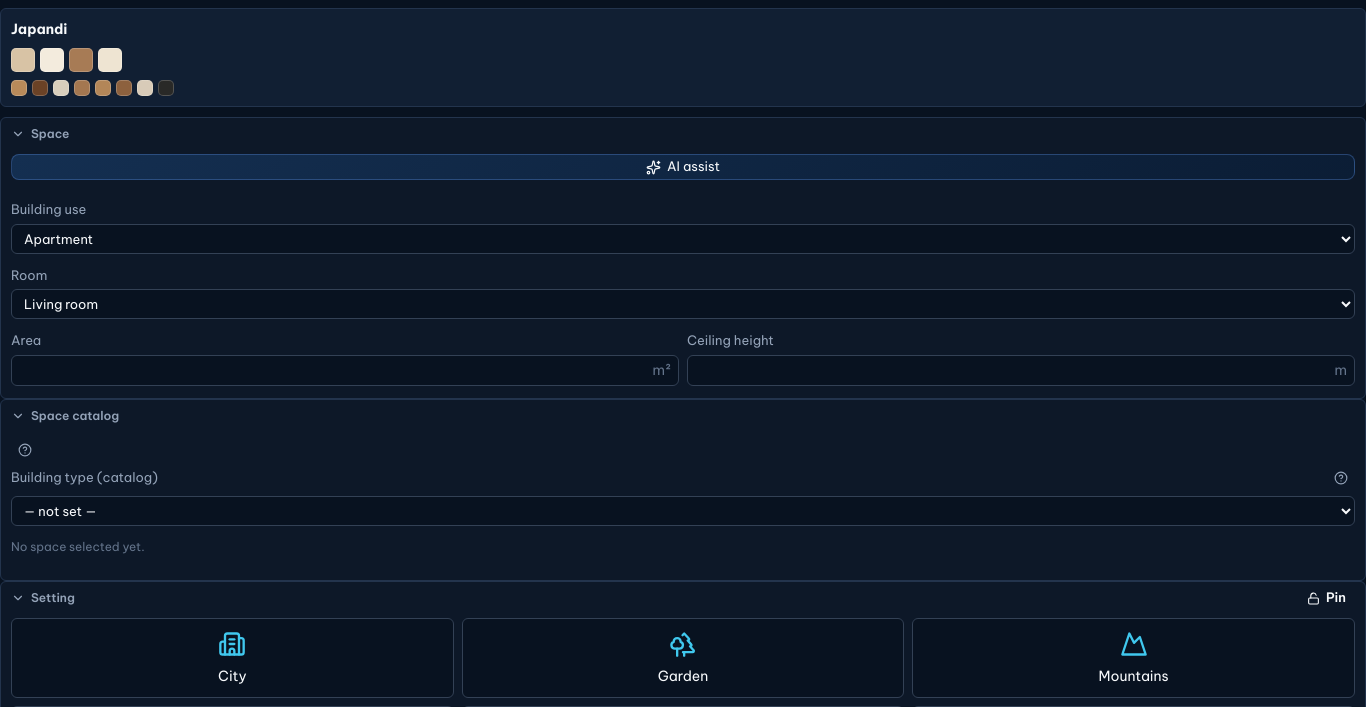
interior project UI › resets an invalid room and shows the live material moodboard
Select "Office" in the dropdown labelled "Building use": {"x": 683, "y": 238} [11,224,1355,254]
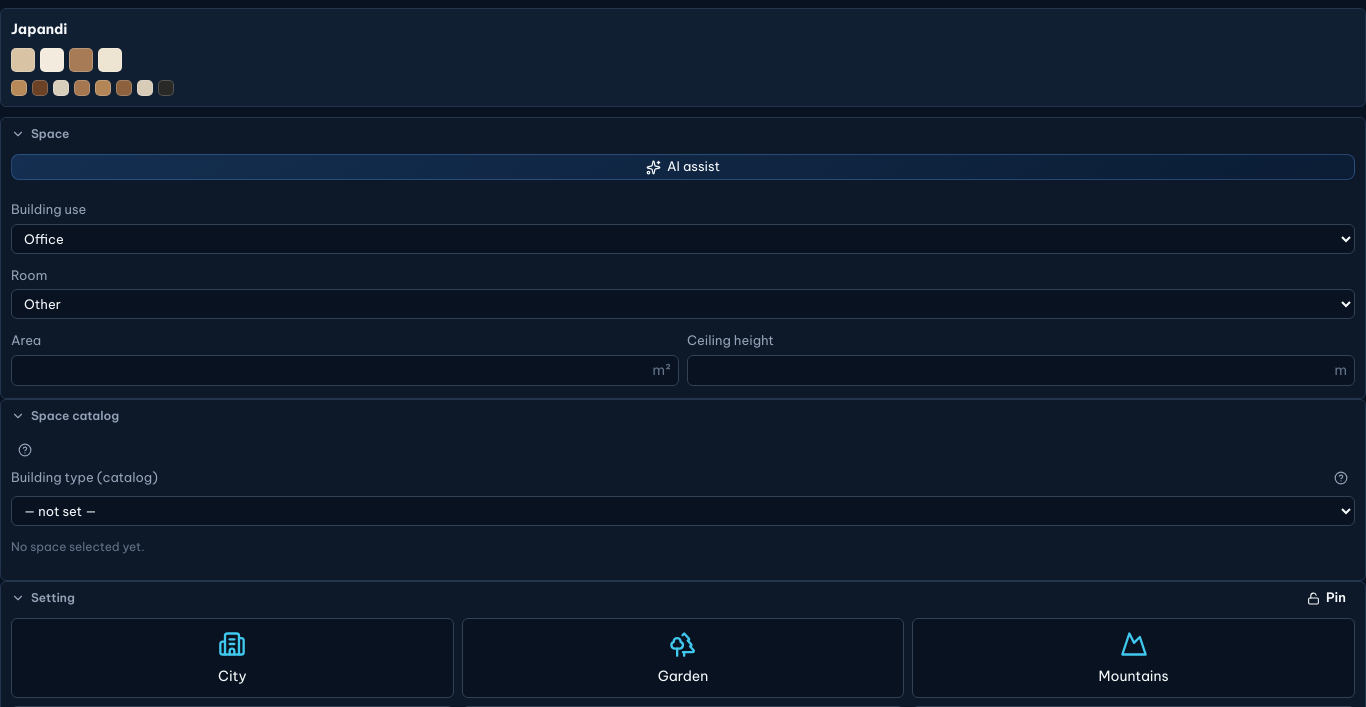
Expected: the 1st element with class "moodboard-material" is shown, [11,80,27,96]
Expected: the dropdown labelled "Room" shows "Other", [11,289,1355,319]
